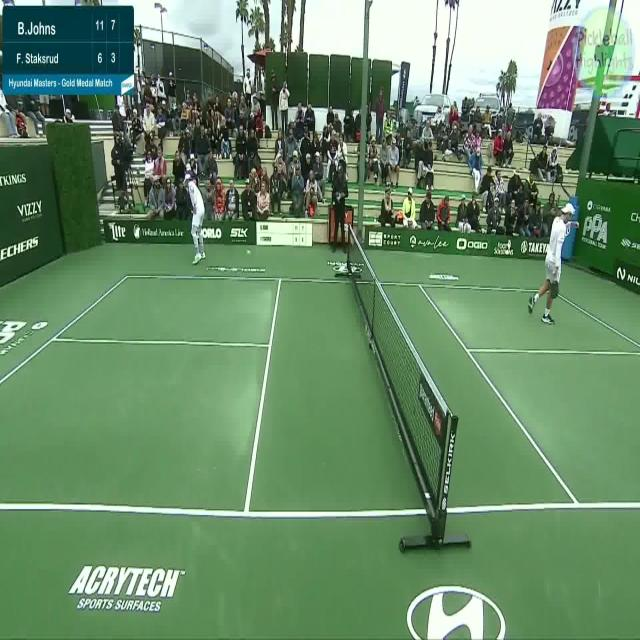ball: (245, 240, 258, 261)
